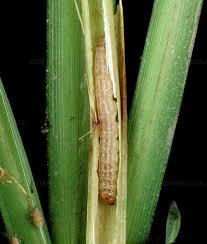insect: (90, 32, 121, 211)
